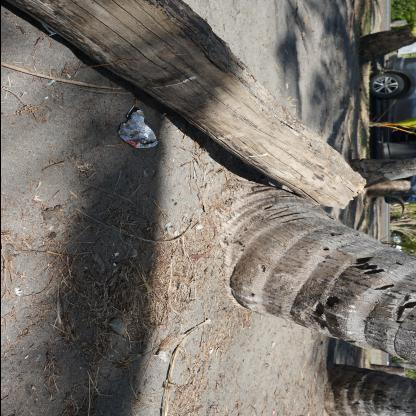plastik: (117, 107, 159, 150)
